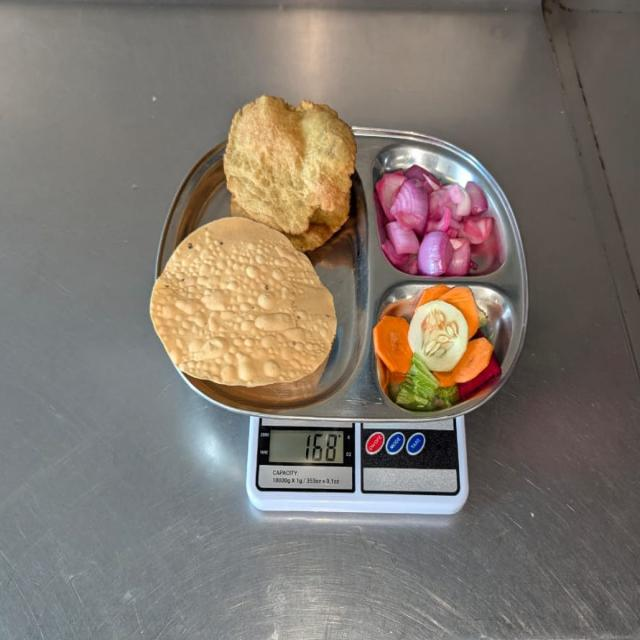Papad: (150, 219, 333, 389)
Poori: (225, 94, 357, 215)
Salad: (374, 284, 498, 406), (377, 164, 499, 276)
